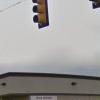Traffic light: (24, 1, 56, 38)
